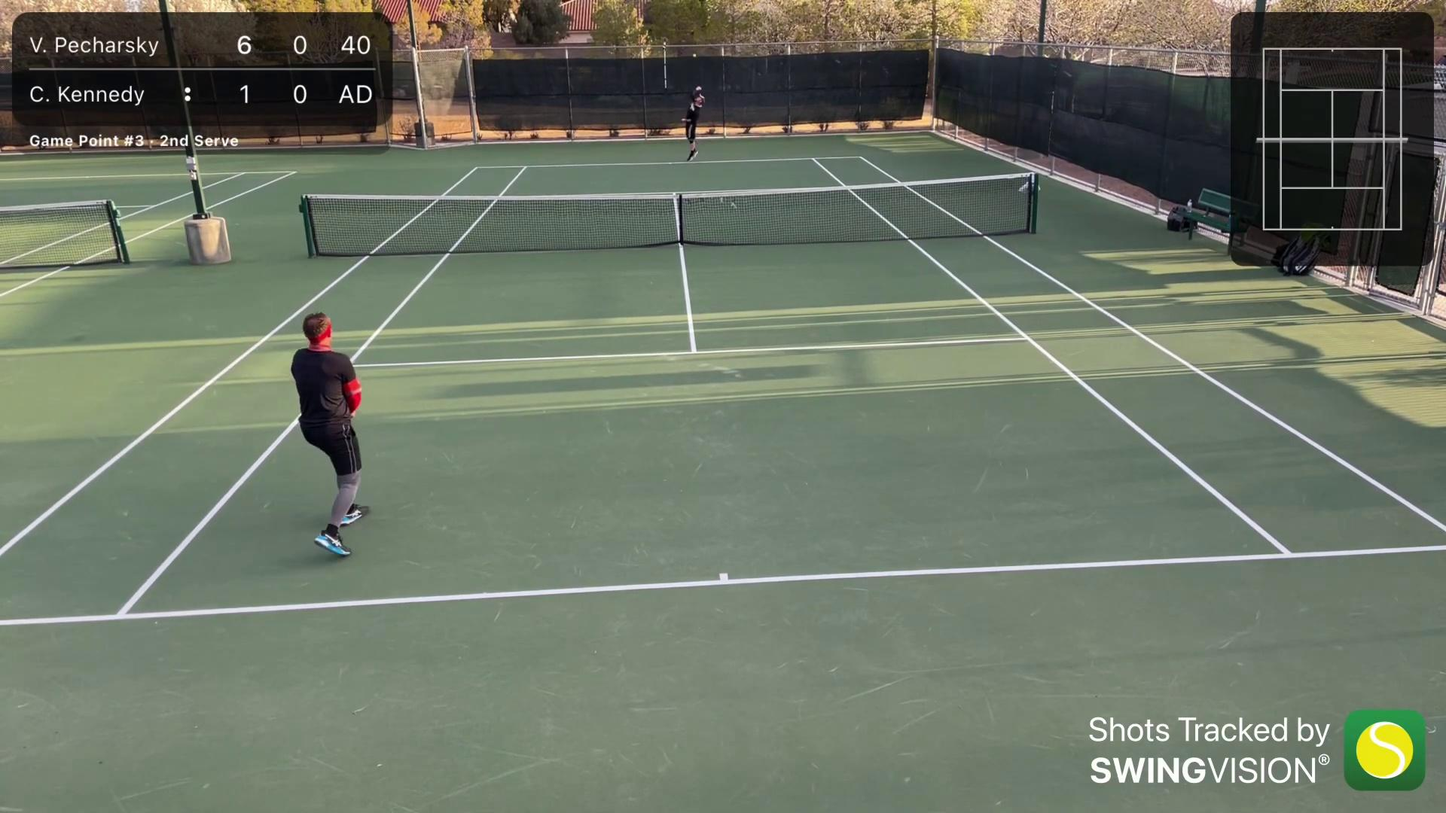ball: (691, 53, 697, 59), (261, 340, 265, 344)
